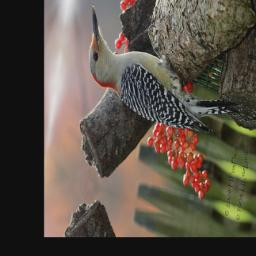Woodpecker: (77, 0, 254, 153)
